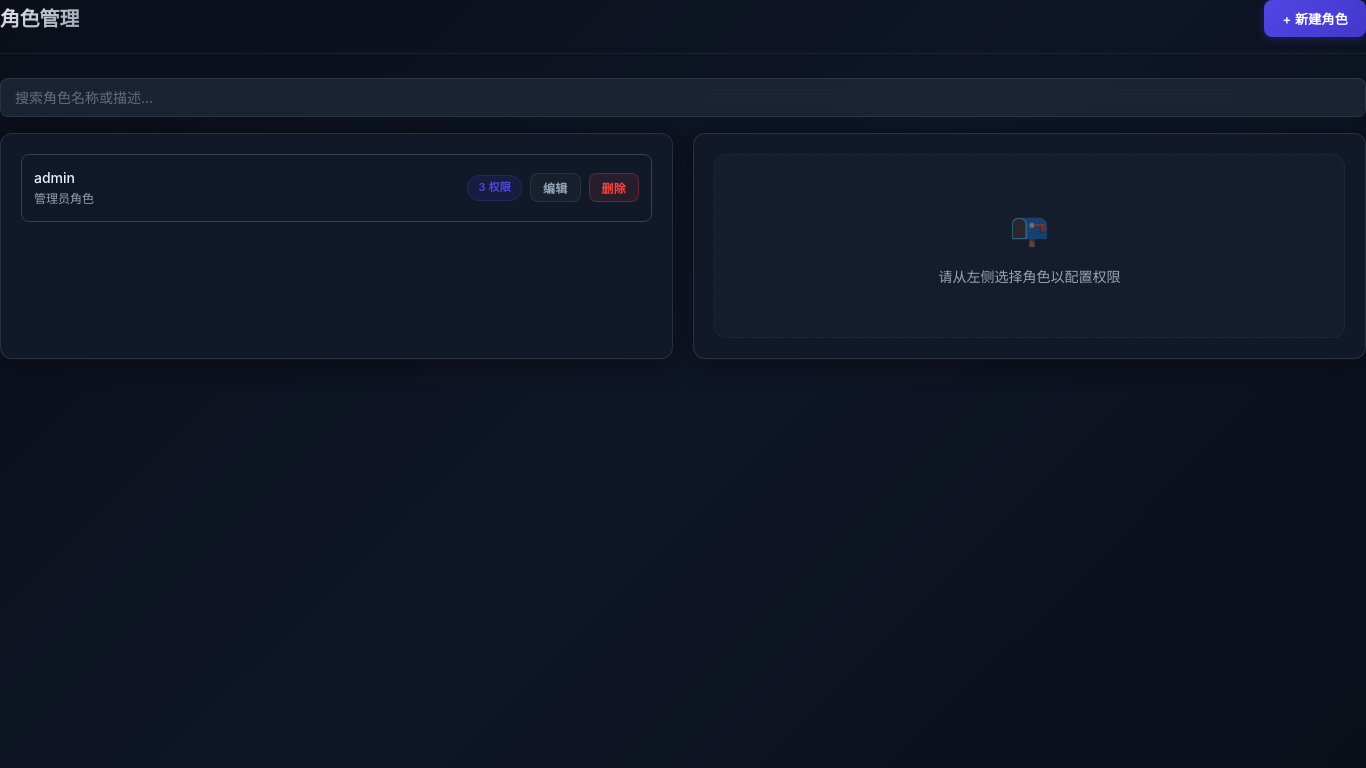
Test case: RolesPage 删除角色 › 点击"删除" → 显示确认 Modal → 点击取消 → 关闭 Modal → 列表不变
Expected: the text "admin" is shown, [34,169,75,186]
# 点击"删除"按钮
Click the button "删除". click: (614, 188)
box: [588,173,639,202]
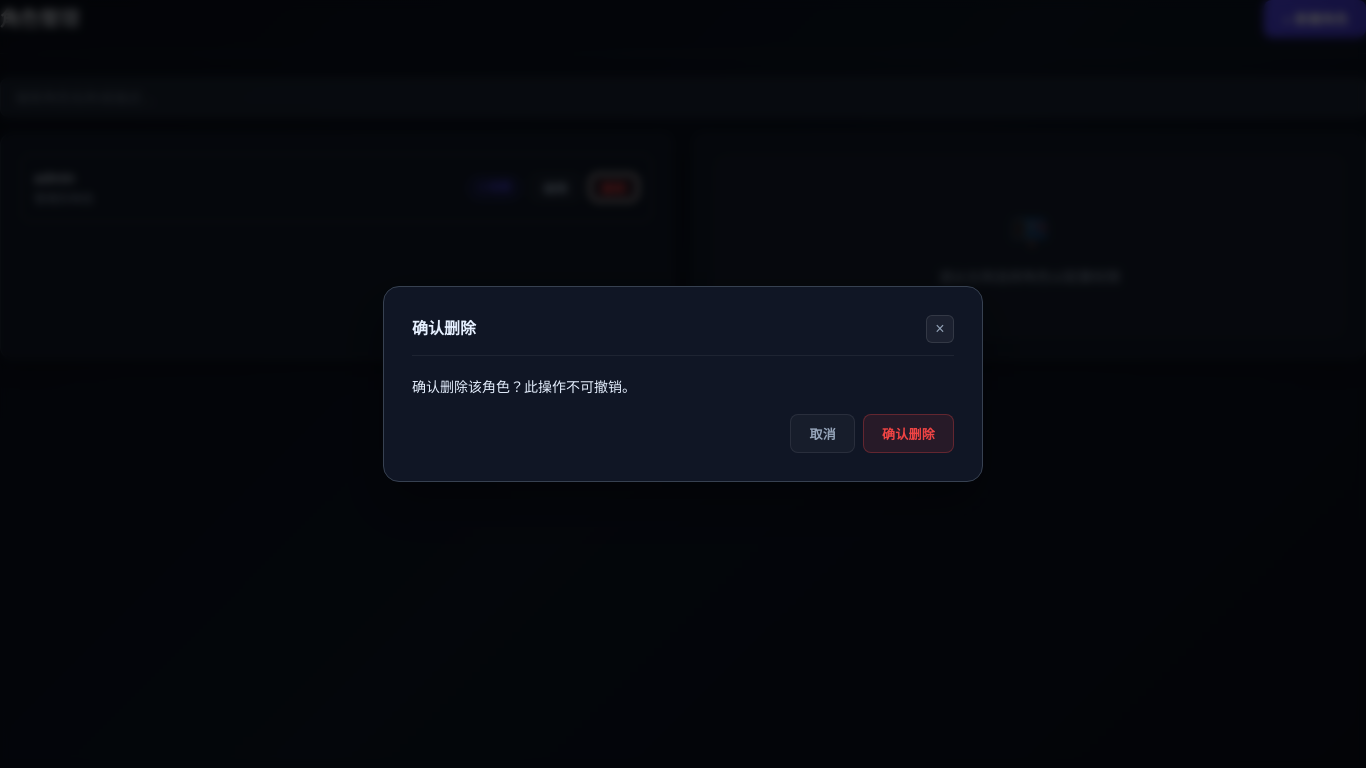
Expected: the heading "确认删除" is shown, [412,316,476,342]
Click the button "取消". click: (823, 434)
box: [790,414,855,453]
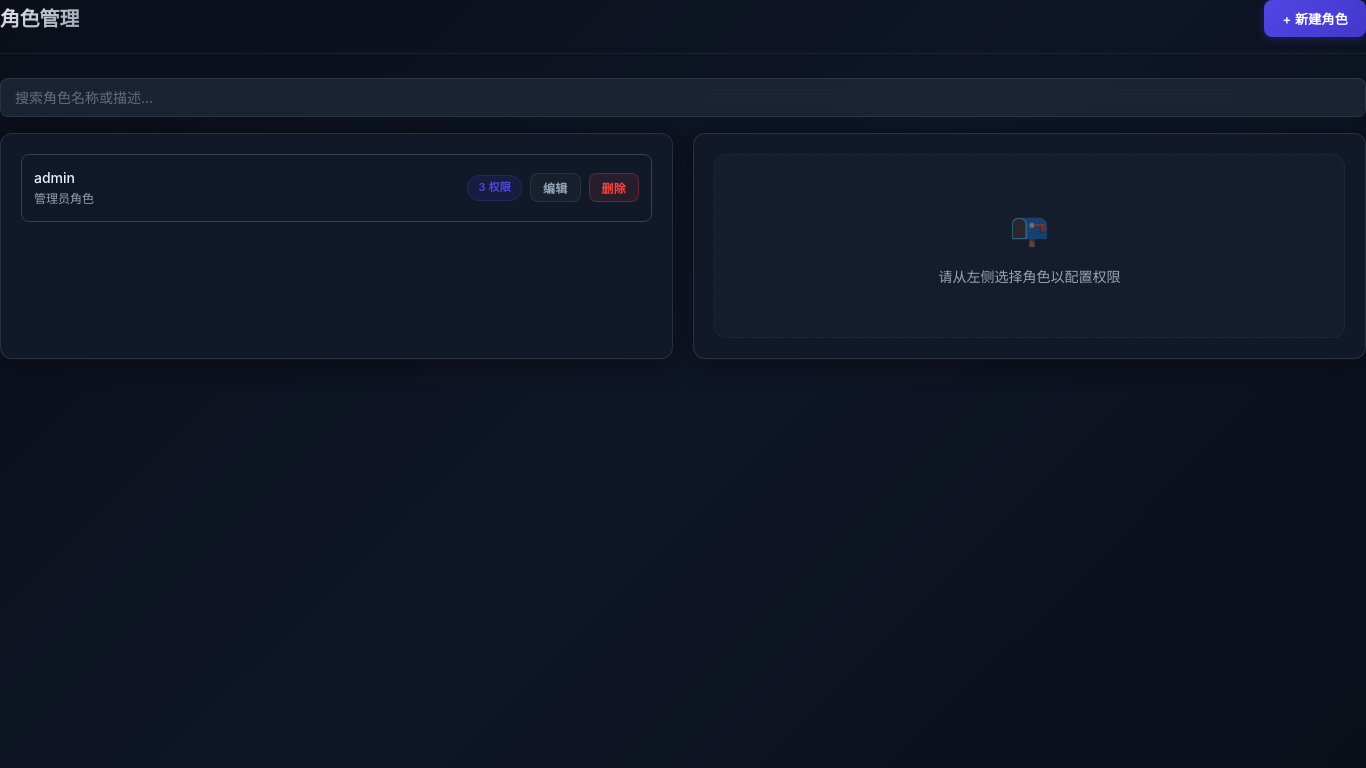
Expected: the text "admin" is shown, [34,169,75,186]
Expected: the heading "确认删除" is gone
